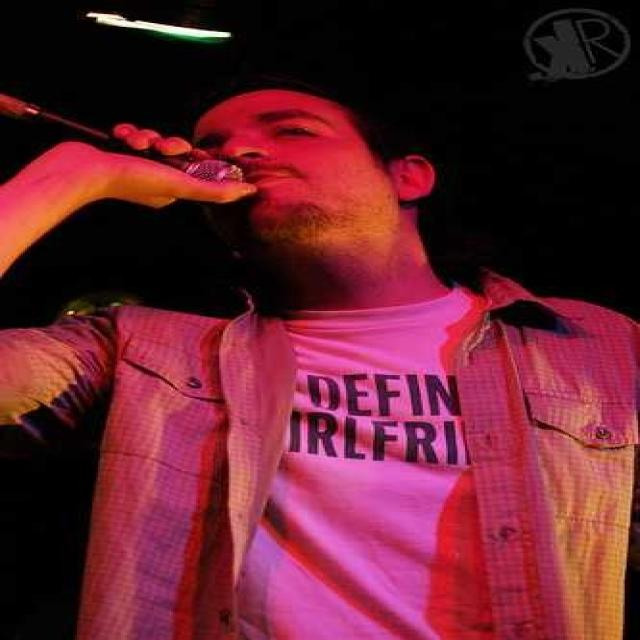microphone: (0, 88, 251, 225)
